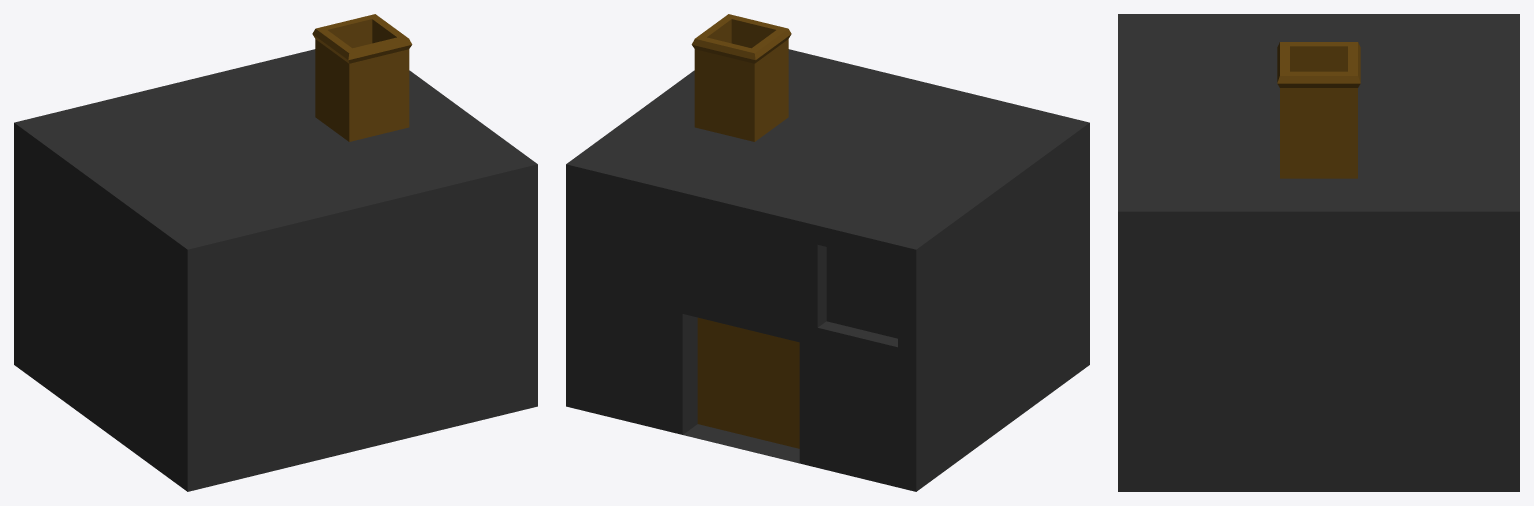
Rendered from building1.FBX.
3 renders of one model, left to right at view 1: azimuth 30°, elevation 25°; view 2: azimuth 150°, elevation 25°; view 3: azimuth 270°, elevation 25°, orthographic. The views are drawn at different scales.
Visible parts, largest first — view 1: Box001; view 2: Box001; view 3: Box001.
Part boxes in pixels (<box>): Box001: <box>14,14,537,491</box>; Box001: <box>566,14,1089,491</box>; Box001: <box>1118,14,1519,491</box>.
Bounding box in the file's own units: 96.34 × 87 × 82.74.
